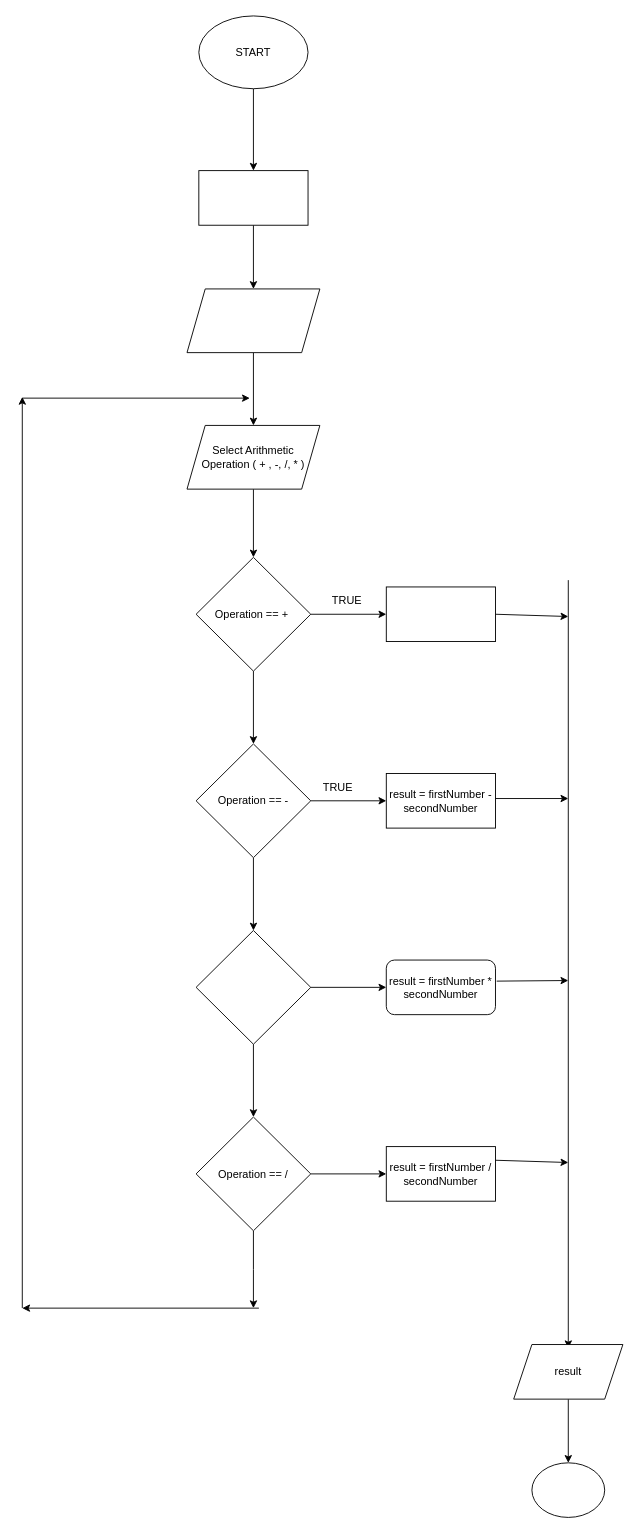
Image size: 639x1533. Some labels were removed from this diagram. Here are the shapes that lost their labels. From the top down, the centre of each, then its label:
At pixel 253 197: "int result, firstNumber, secondNumber".
At pixel 253 320: "Input firstNumber , Input secondNumber".
At pixel 440 614: "result = firstNumber + secondNumber".
At pixel 253 987: "Operation == *".
At pixel 568 1489: "STOP".
